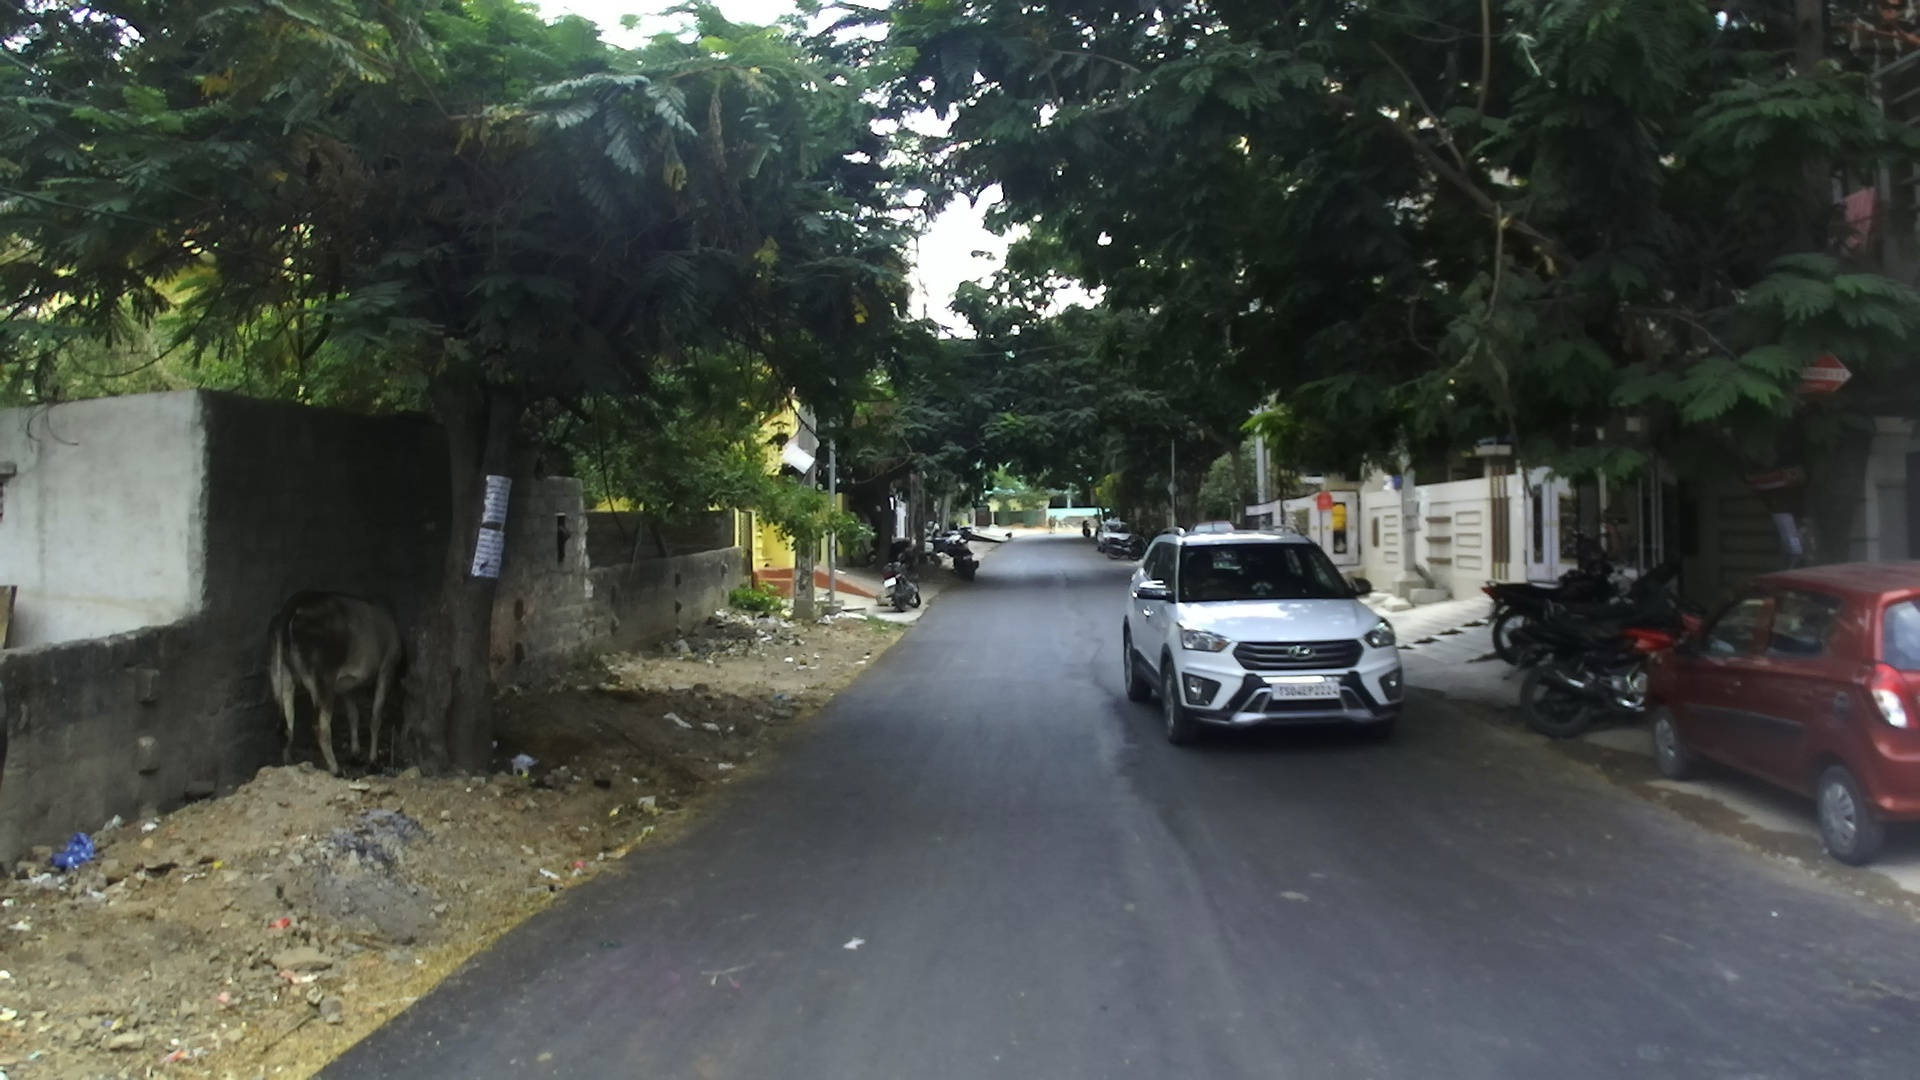vehicle: (0, 385, 487, 873), (1640, 560, 1919, 862), (1120, 527, 1406, 746), (1501, 572, 1695, 737), (1509, 615, 1689, 736), (878, 576, 924, 612), (1093, 524, 1135, 559)
